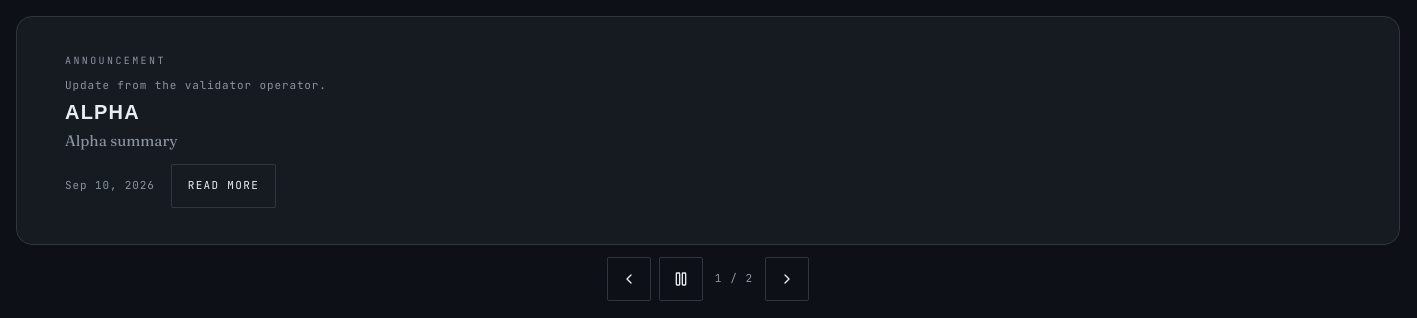
Scenario: reduced motion › still offers manual navigation
The image size is (1417, 318).
Expected: the element with test id "announcement-bar-controls" is shown, [607,257,809,301]
Click the button named "Next announcement" at x=787, y=279, box [765,257,809,301]
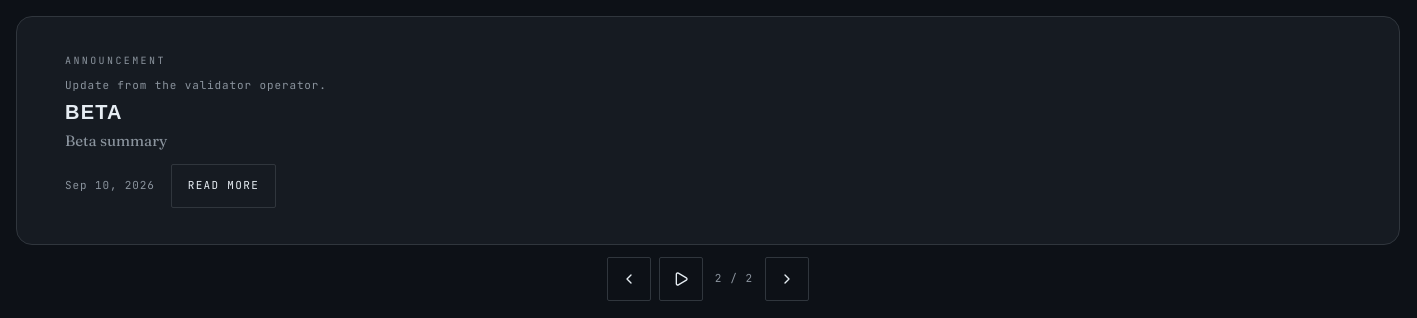
Now the heading "Beta" is shown, box [65,101,123,123]
